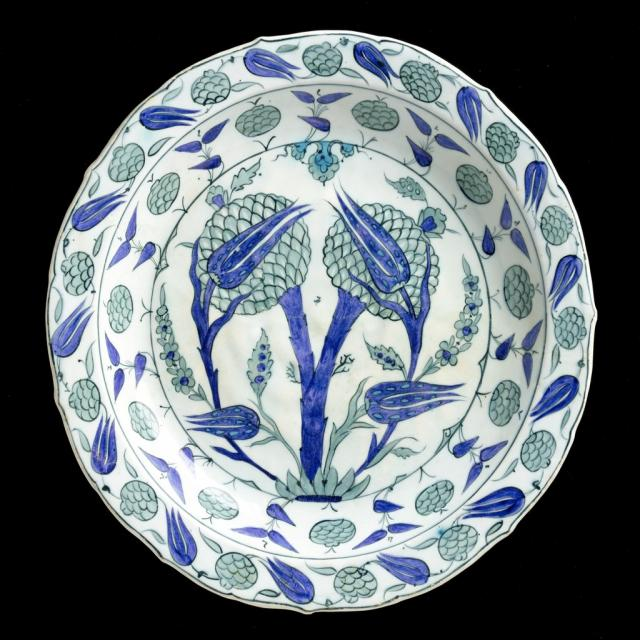non-organic waste: (41, 33, 611, 622)
